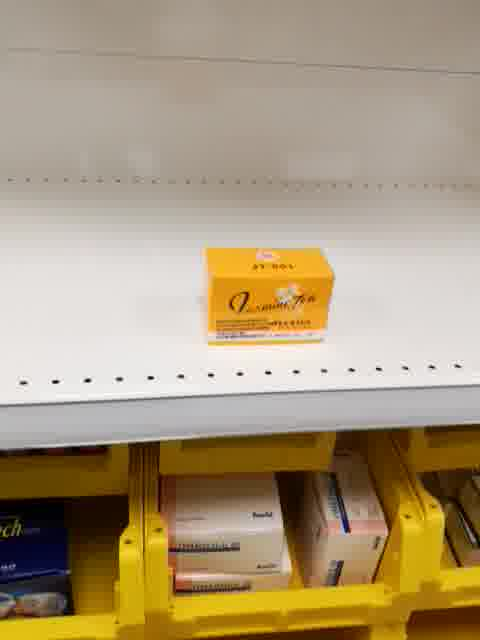jasminetea: (199, 245, 336, 346)
